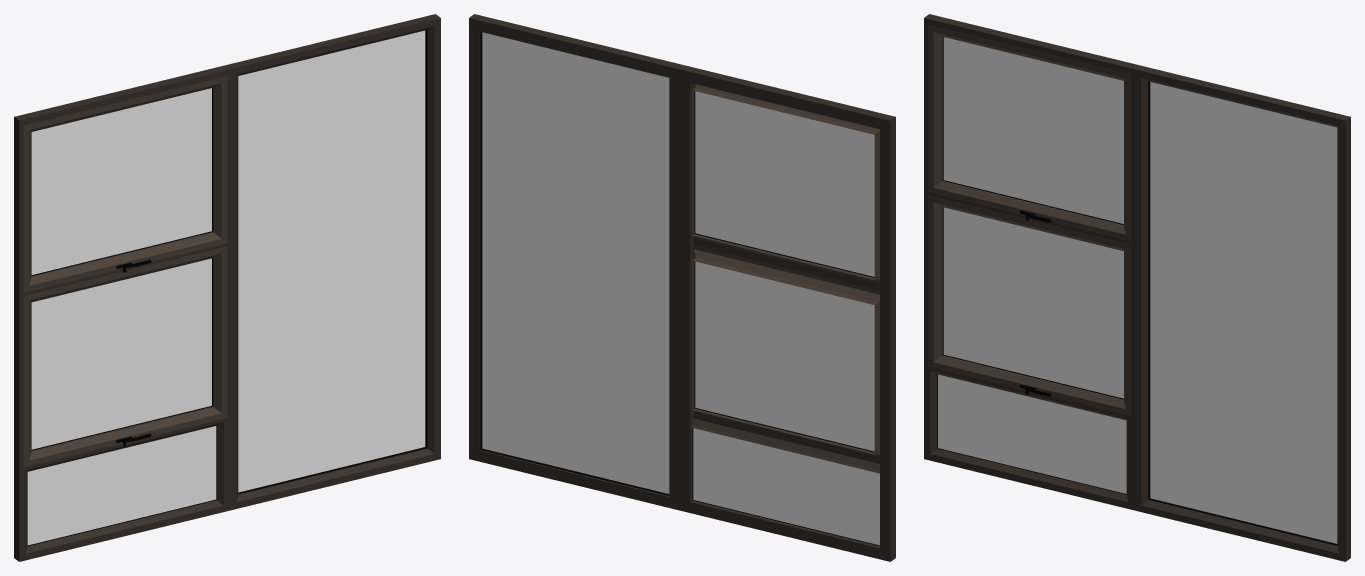
File: win_alu.glb
3 views of the same model, side by side, from view 1: azimuth 30°, elevation 25°; view 2: azimuth 150°, elevation 25°; view 3: azimuth 330°, elevation 25° (orthographic).
Visible parts, largest first — view 1: Glass 4_16, Main Frame_2, Glass 2_14, Glass 1_13, Glass 3_15, Window Opening Frame 2_1, Window Opening Frame 1_0, Glass 4 Rubber_12; view 2: Glass 4_16, Main Frame_2, Glass 2_14, Glass 1_13, Glass 3_15, Window Opening Frame 2_1, Window Opening Frame 1_0, Glass 4 Rubber_12, Glass 2 Rubber_10, Glass 1 Rubber_9; view 3: Glass 4_16, Main Frame_2, Glass 2_14, Glass 1_13, Glass 3_15, Window Opening Frame 2_1, Window Opening Frame 1_0, Glass 4 Rubber_12, Glass 2 Rubber_10, Glass 1 Rubber_9.
Boxes of the visible parts, x1,y1,x2,y2 form: Glass 4_16: [238, 30, 425, 492]; Main Frame_2: [14, 14, 440, 561]; Glass 2_14: [31, 258, 211, 449]; Glass 1_13: [31, 88, 211, 274]; Glass 3_15: [27, 426, 216, 545]; Window Opening Frame 2_1: [24, 246, 227, 467]; Window Opening Frame 1_0: [24, 76, 227, 292]; Glass 4 Rubber_12: [238, 30, 427, 494]; Glass 4_16: [482, 32, 669, 493]; Main Frame_2: [469, 14, 895, 561]; Glass 2_14: [695, 261, 874, 451]; Glass 1_13: [695, 91, 874, 276]; Glass 3_15: [693, 428, 879, 545]; Window Opening Frame 2_1: [692, 245, 879, 456]; Window Opening Frame 1_0: [692, 84, 879, 283]; Glass 4 Rubber_12: [480, 32, 669, 495]; Glass 2 Rubber_10: [694, 261, 874, 452]; Glass 1 Rubber_9: [694, 91, 874, 277]; Glass 4_16: [1150, 82, 1337, 543]; Main Frame_2: [924, 14, 1350, 561]; Glass 2_14: [943, 207, 1123, 398]; Glass 1_13: [943, 37, 1123, 223]; Glass 3_15: [938, 374, 1126, 493]; Window Opening Frame 2_1: [928, 195, 1131, 415]; Window Opening Frame 1_0: [928, 25, 1131, 241]; Glass 4 Rubber_12: [1148, 81, 1337, 545]; Glass 2 Rubber_10: [942, 207, 1123, 399]; Glass 1 Rubber_9: [942, 37, 1123, 224].
Bounding box in the file's own units: 1.8 × 1.8 × 0.0694.
